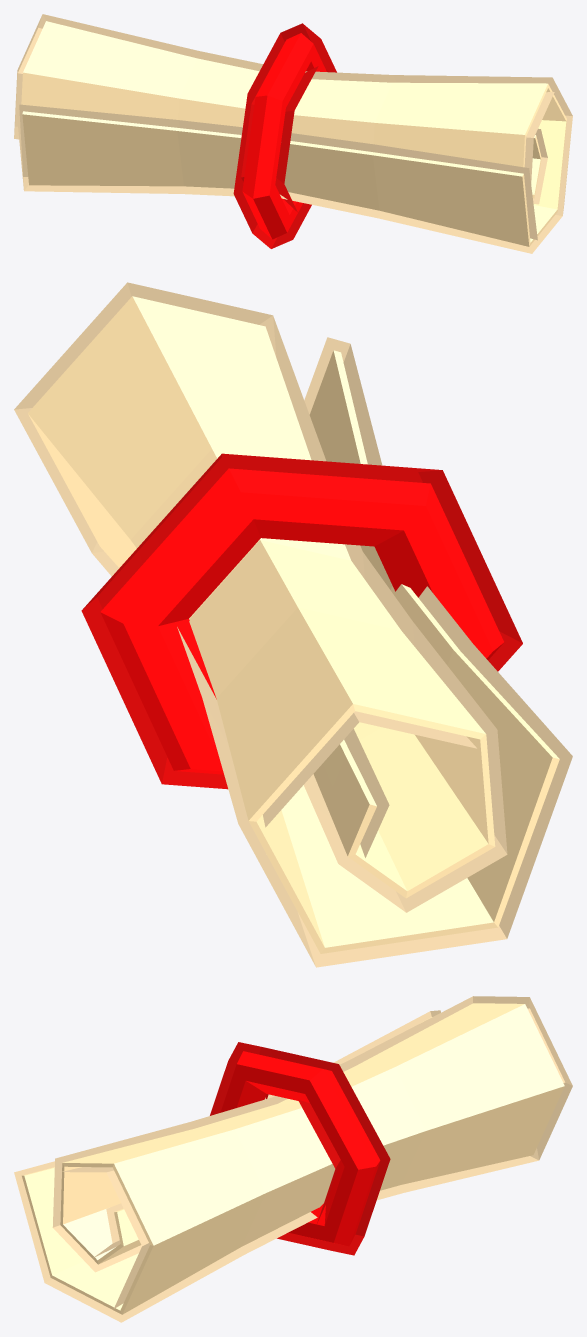
File: scroll3.glb
3 views of the same model, one above another, from view 1: azimuth 30°, elevation 25°; view 2: azimuth 150°, elevation 25°; view 3: azimuth 270°, elevation 25° (orthographic). The views are drawn at different scales.
Visible parts, largest first — view 1: Scroll.002, PaperToon.003; view 2: Scroll.002, PaperToon.003; view 3: Scroll.002, PaperToon.003.
Boxes of the visible parts, bbox=[...] form: Scroll.002: bbox=[21, 21, 566, 246]; PaperToon.003: bbox=[14, 14, 572, 253]; Scroll.002: bbox=[28, 296, 559, 953]; PaperToon.003: bbox=[14, 282, 572, 967]; Scroll.002: bbox=[22, 1003, 564, 1314]; PaperToon.003: bbox=[14, 996, 572, 1322].
Size of the model in its own units: 0.2539 by 0.1087 by 0.2681.
2 materials, 2 textured.
